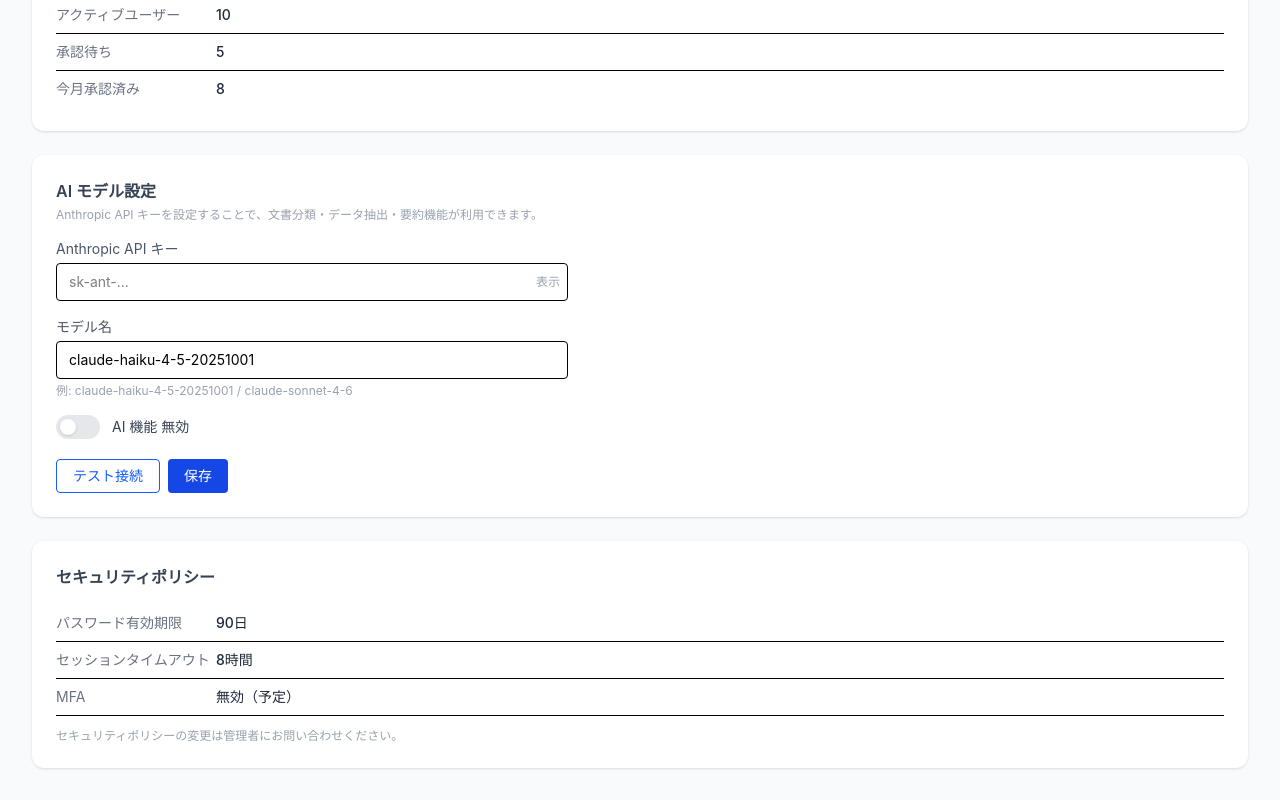
Test: Settings › AI model settings section › displays test result message after テスト接続 succeeds
(page scrolled)
Click the button "テスト接続": (108, 476) [56, 459, 160, 493]
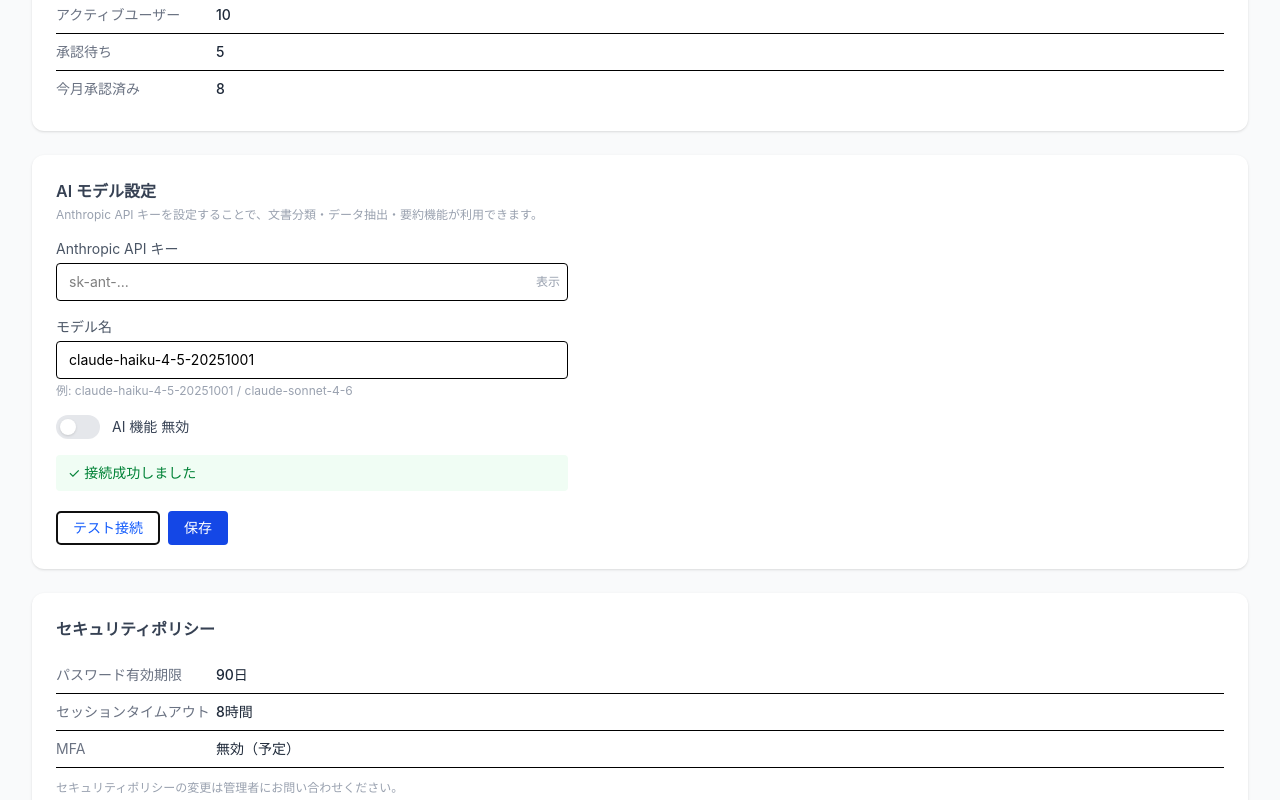
Now the text "✓ 接続成功しました" is shown, box [56, 455, 568, 491]
